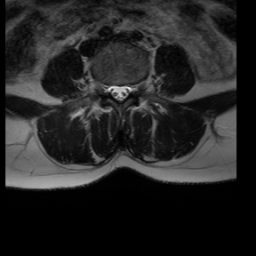CCS_stenosis: (116, 76, 123, 111)
LFS_normal: (131, 77, 141, 103)
LLS_normal: (123, 78, 130, 103)
RFS_normal: (98, 73, 107, 100)
RLS_normal: (107, 77, 116, 102)
